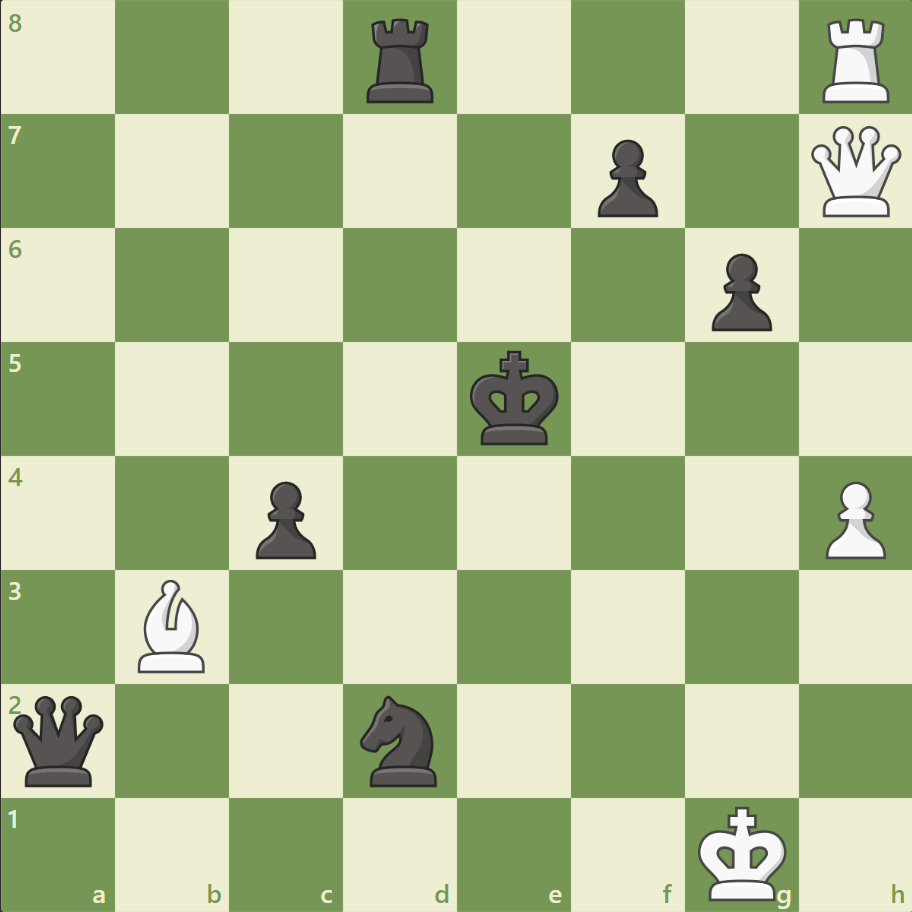B: (131, 574, 215, 676)
K: (692, 798, 792, 906)
P: (815, 473, 889, 564)
Q: (805, 122, 904, 222)
R: (814, 12, 897, 109)
k: (465, 344, 565, 452)
n: (351, 688, 449, 791)
p: (701, 246, 776, 337), (247, 473, 322, 564), (588, 132, 662, 223)
q: (10, 690, 109, 789)
r: (360, 12, 442, 109)
